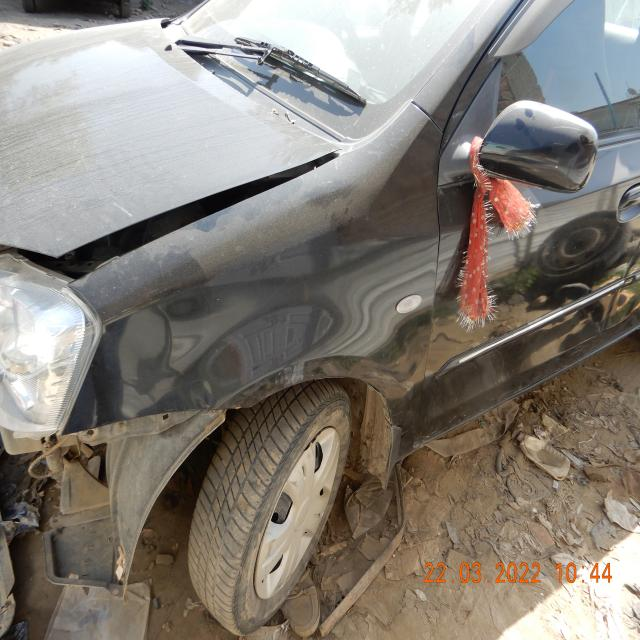damage: (1, 235, 63, 279)
